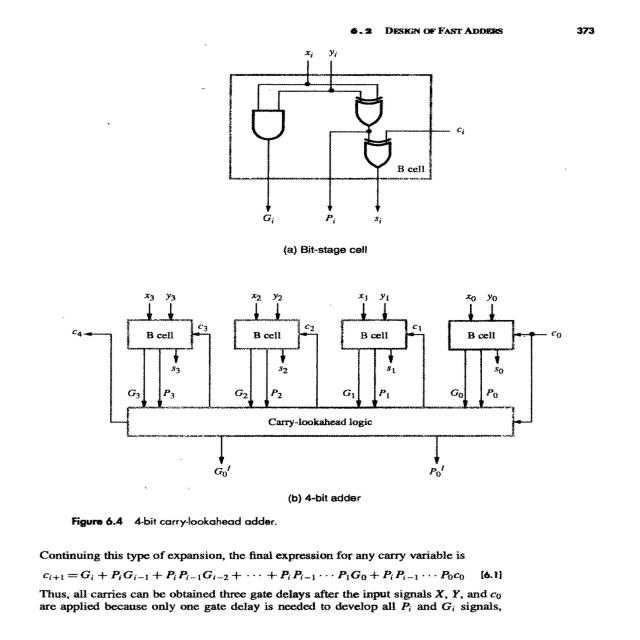diagram: (68, 287, 640, 536), (70, 43, 525, 274)
